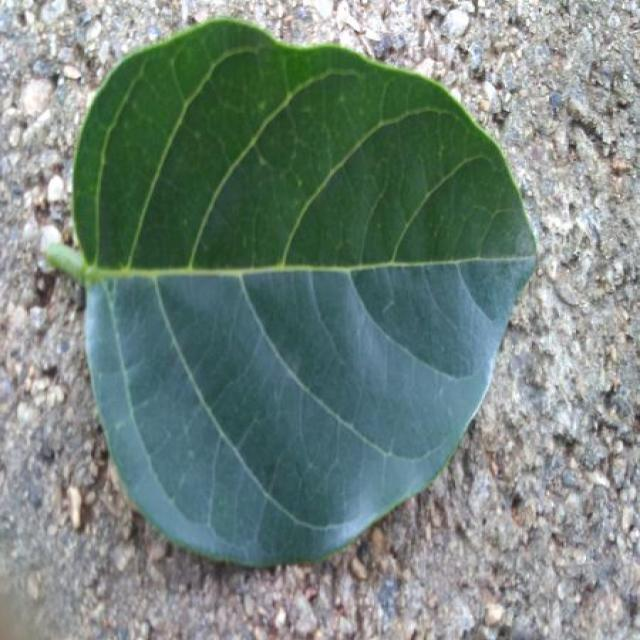honge: (47, 19, 535, 566)
